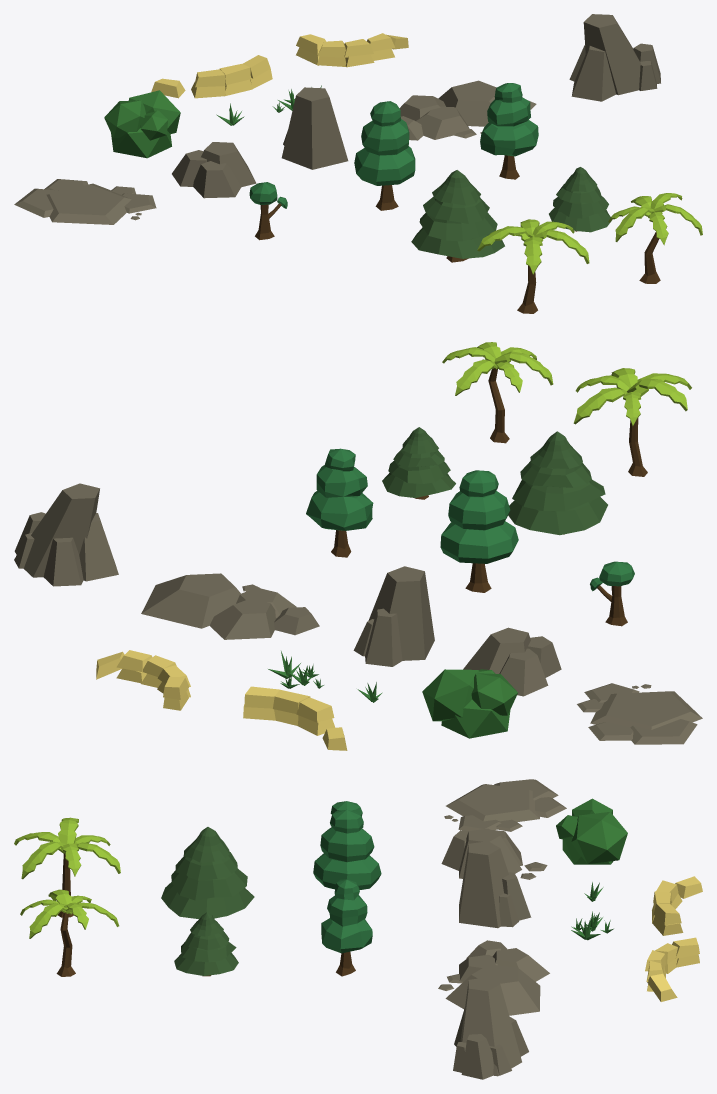
The model's file is foliage (2).fbx.
3 views of the same model, one above another, from view 1: azimuth 30°, elevation 25°; view 2: azimuth 150°, elevation 25°; view 3: azimuth 270°, elevation 25° (orthographic). The views are drawn at different scales.
Visible parts, largest first — view 1: rock.003, sapling, rock.004, oak.001, rock.001, rock, bush, oak.002, rock.002, sandbag.001, sandbag, sapling.001 (+3 smaller); view 2: rock.001, rock.003, sapling, oak.001, rock, rock.004, bush, oak.002, rock.002, sapling.002, sandbag, sapling.001 (+4 smaller); view 3: sapling, rock.003, rock, rock.001, rock.004, oak.001, bush, oak.002, sapling.002, sapling.001, sapling.003, rock.002 (+3 smaller).
Part boxes in pixels (x1=…): rock.003: x1=569, y1=14, x2=660, y2=101; sapling: x1=411, y1=170, x2=504, y2=262; rock.004: x1=14, y1=179, x2=156, y2=224; oak.001: x1=354, y1=101, x2=415, y2=210; rock.001: x1=399, y1=80, x2=536, y2=140; rock: x1=281, y1=87, x2=348, y2=169; bush: x1=104, y1=90, x2=180, y2=158; oak.002: x1=480, y1=83, x2=538, y2=179; rock.002: x1=172, y1=142, x2=256, y2=198; sandbag.001: x1=296, y1=33, x2=408, y2=67; sandbag: x1=151, y1=55, x2=272, y2=98; sapling.001: x1=549, y1=167, x2=612, y2=232; rock.001: x1=141, y1=573, x2=319, y2=639; rock.003: x1=14, y1=483, x2=118, y2=586; sapling: x1=508, y1=431, x2=607, y2=535; oak.001: x1=440, y1=470, x2=518, y2=592; rock: x1=353, y1=566, x2=434, y2=666; rock.004: x1=577, y1=683, x2=702, y2=744; bush: x1=422, y1=669, x2=517, y2=738; oak.002: x1=306, y1=448, x2=373, y2=557; rock.002: x1=463, y1=627, x2=561, y2=696; sapling.002: x1=573, y1=368, x2=691, y2=476; sandbag: x1=243, y1=686, x2=347, y2=750; sapling.001: x1=382, y1=427, x2=455, y2=499; sapling: x1=161, y1=827, x2=254, y2=919; rock.003: x1=453, y1=977, x2=528, y2=1079; rock: x1=459, y1=841, x2=531, y2=928; rock.001: x1=438, y1=940, x2=549, y2=1015; rock.004: x1=444, y1=779, x2=566, y2=831; oak.001: x1=313, y1=809, x2=381, y2=889; bush: x1=556, y1=798, x2=627, y2=864; oak.002: x1=321, y1=879, x2=372, y2=976; sapling.002: x1=14, y1=817, x2=120, y2=917; sapling.001: x1=174, y1=912, x2=238, y2=976; sapling.003: x1=20, y1=889, x2=119, y2=976; rock.002: x1=441, y1=828, x2=547, y2=879.
Bounding box in the file's own units: 2025 × 343 × 1966.
